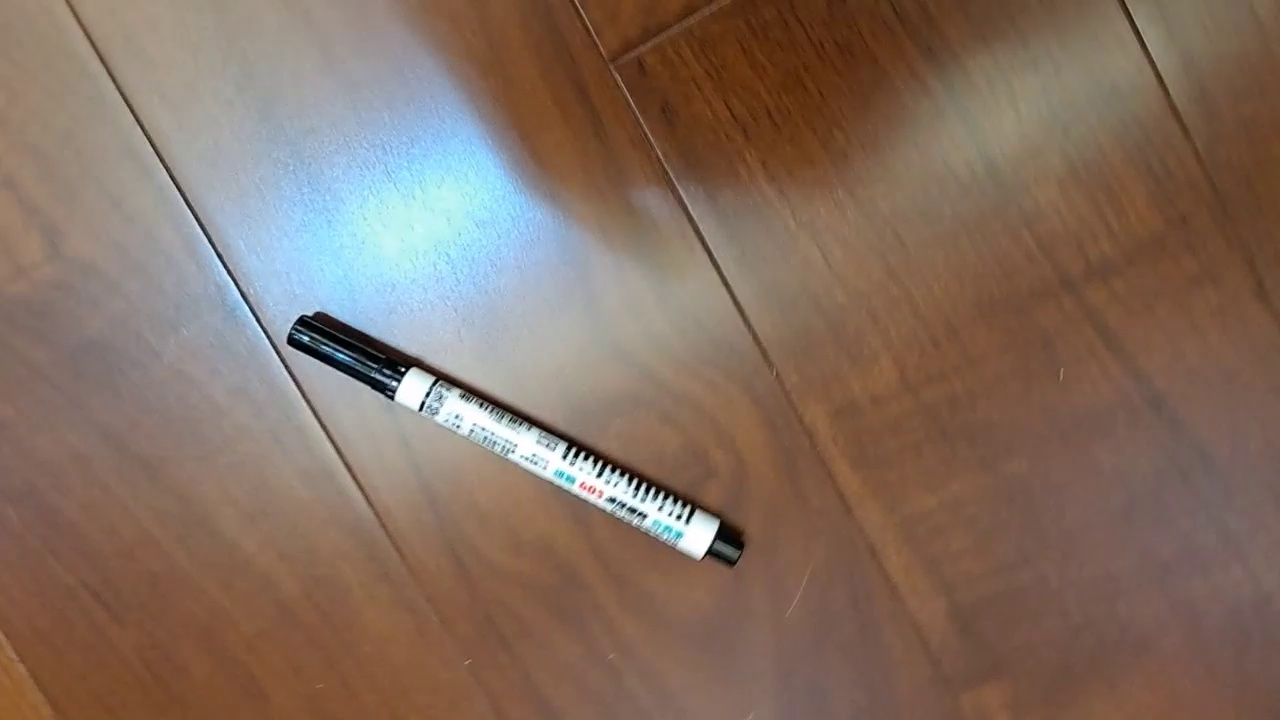pen: (286, 310, 747, 569)
